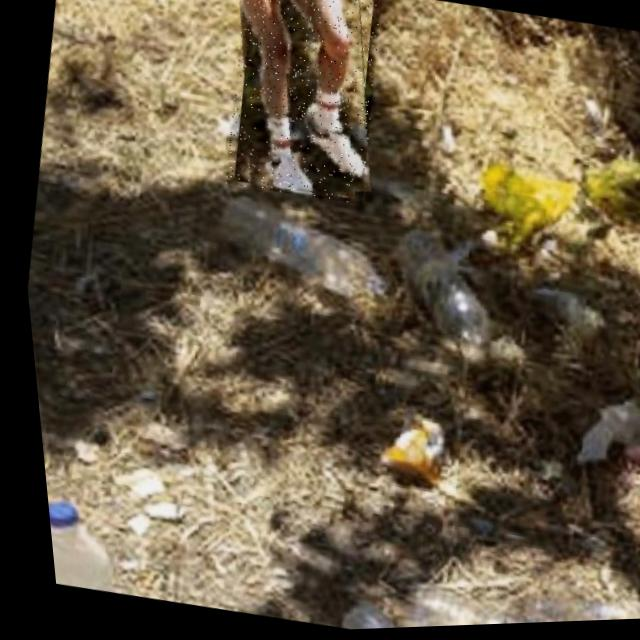Person in Rubble: (207, 0, 398, 211)
